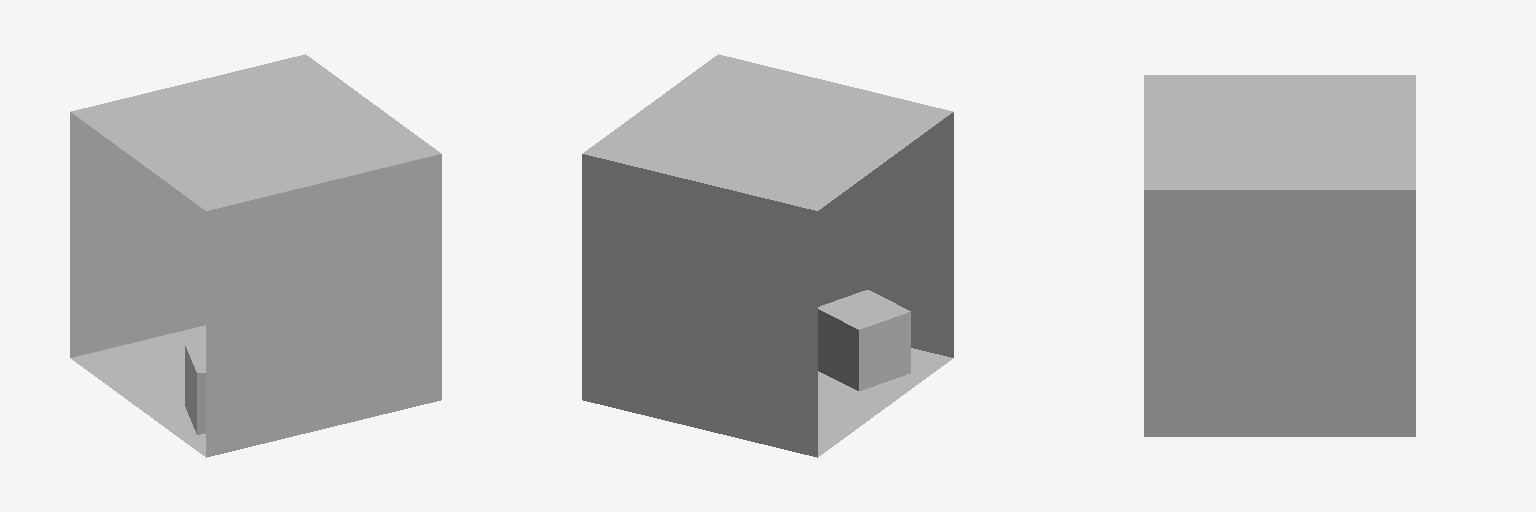
Rendered from CornellBox.obj.
3 renders of one model, left to right at view 1: azimuth 30°, elevation 25°; view 2: azimuth 150°, elevation 25°; view 3: azimuth 270°, elevation 25°, orthographic.
Visible parts, largest first — view 1: Box, BoxRight; view 2: Box, BoxRight; view 3: Box.
Part boxes in pixels (x1,y1,x2,y2): Box: (70,54,441,457); BoxRight: (185,343,205,434); Box: (582,54,953,457); BoxRight: (818,290,910,390); Box: (1144,75,1415,436).
Bounding box in the file's own units: 2 × 2 × 2.